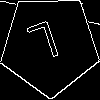L: (24, 20, 65, 72)
